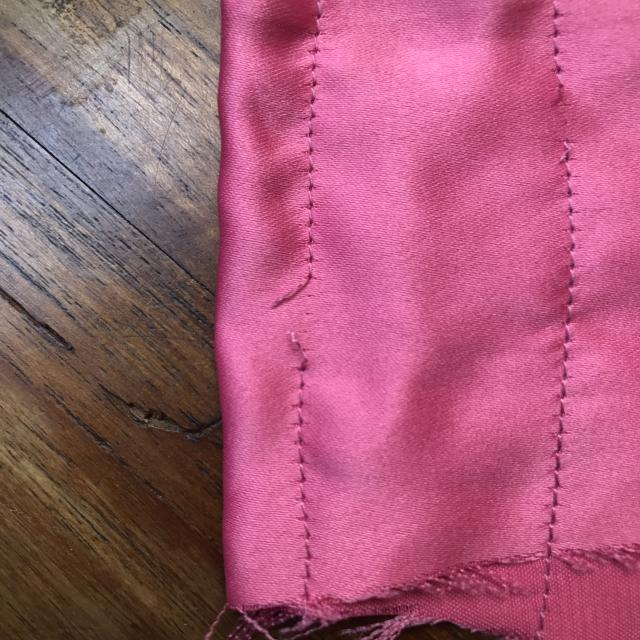broken: (254, 262, 332, 385)
